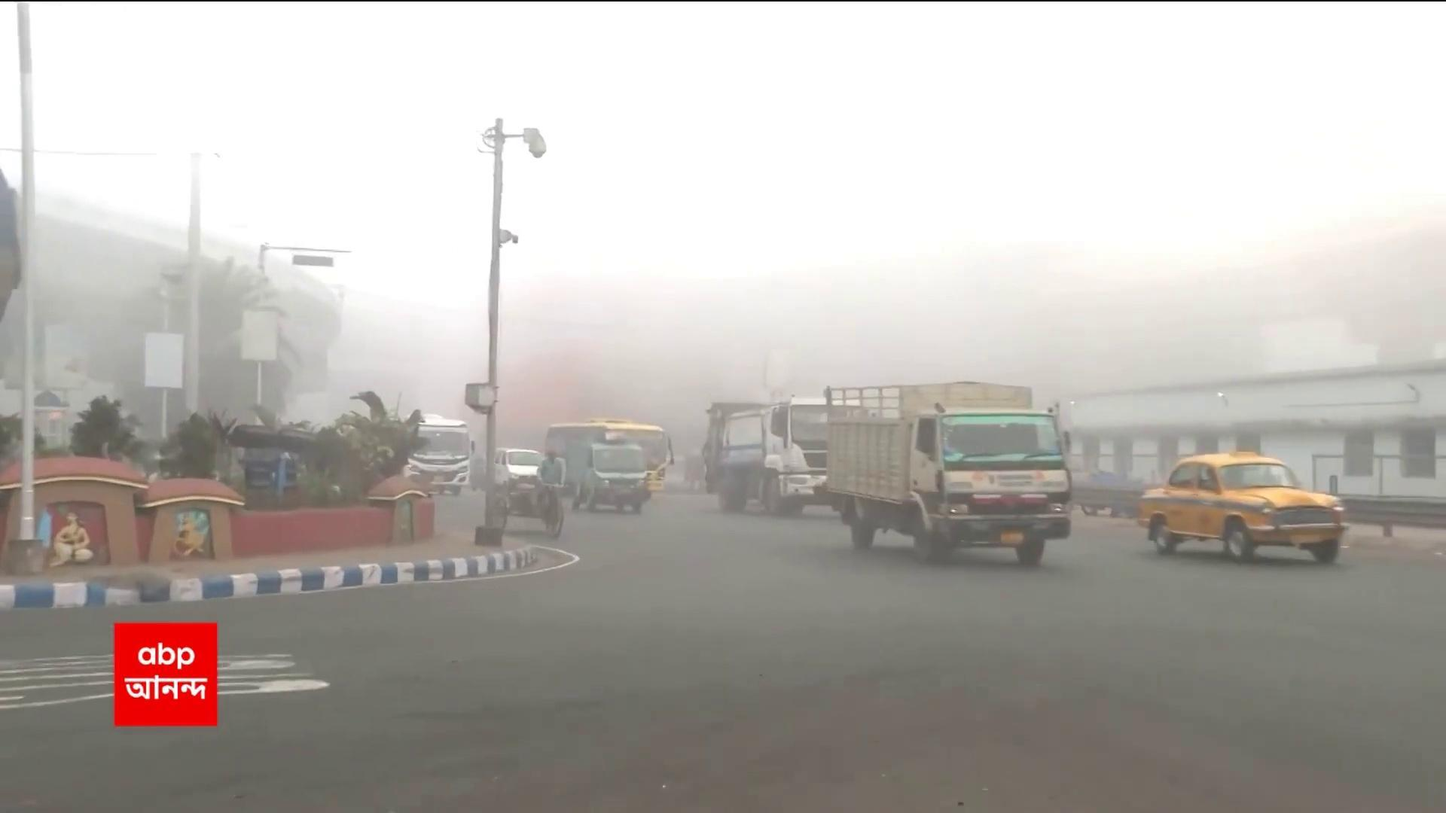Car: (1135, 451, 1349, 576)
Truck: (821, 380, 1072, 564), (723, 388, 846, 514), (554, 426, 659, 512)
